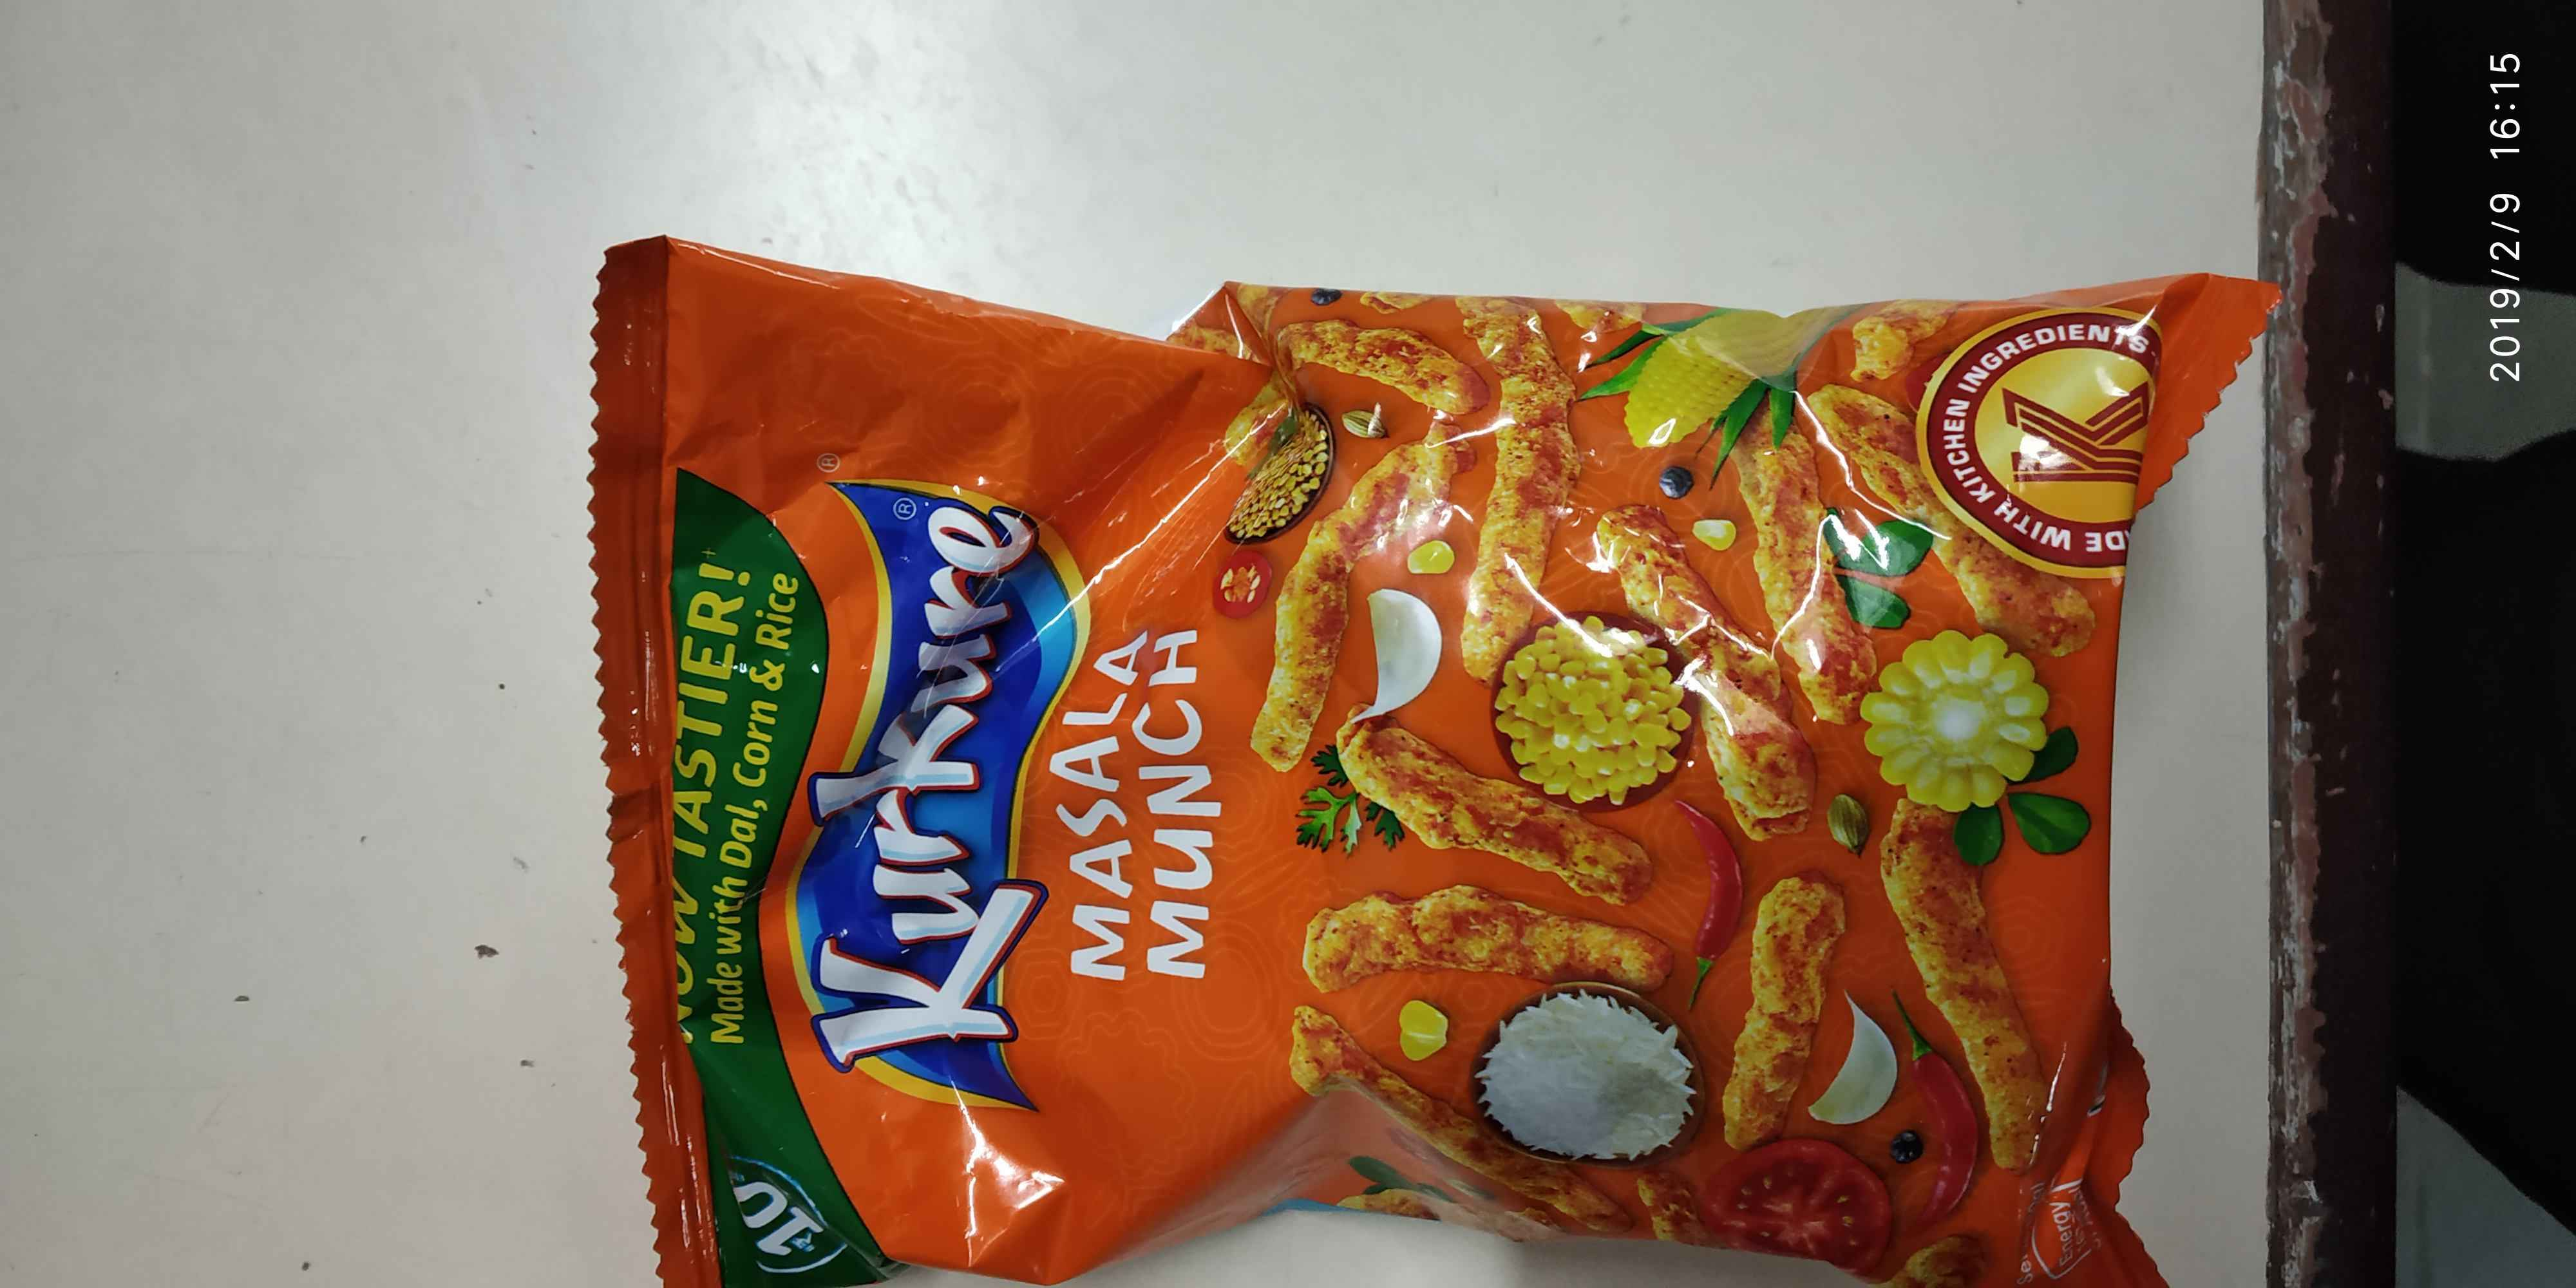kurkure: (798, 434, 1106, 1125)
